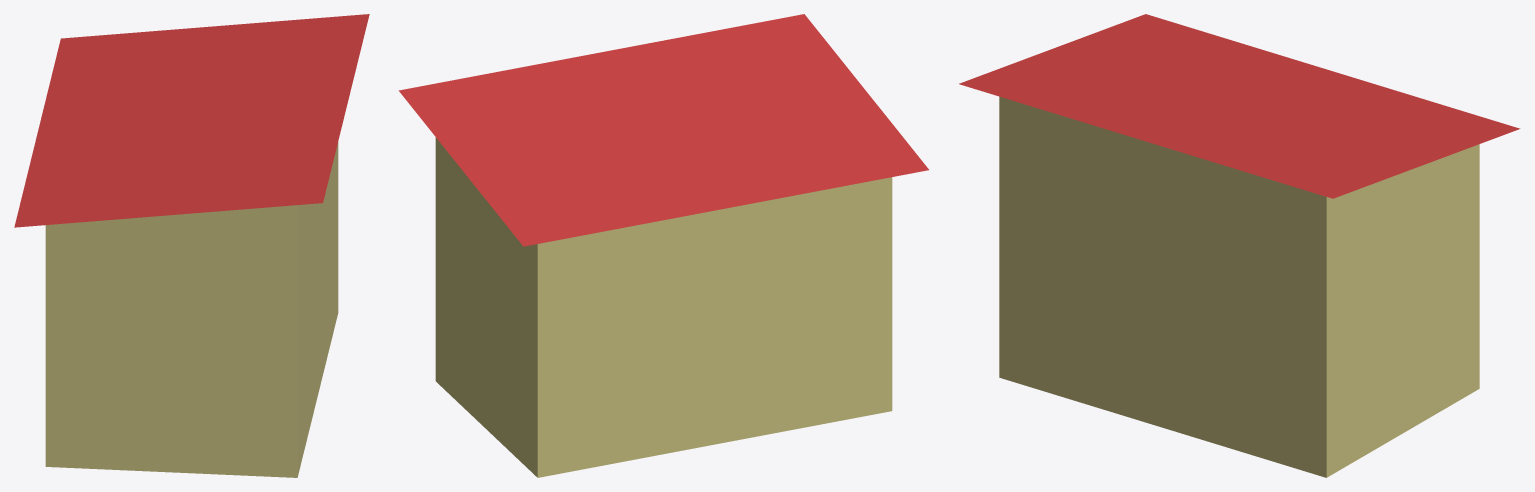
The picture shows the model from 3 angles, left to right: view 1: azimuth 30°, elevation 25°; view 2: azimuth 150°, elevation 25°; view 3: azimuth 270°, elevation 25°; orthographic projection. The views are drawn at different scales.
Bounding box in the file's own units: 9.02 × 9.57 × 5.57.
